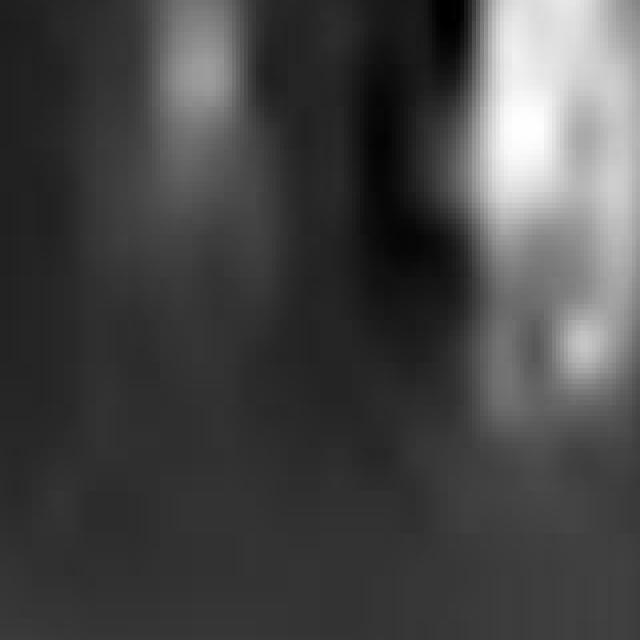person: (413, 1, 640, 470), (77, 1, 293, 438)
